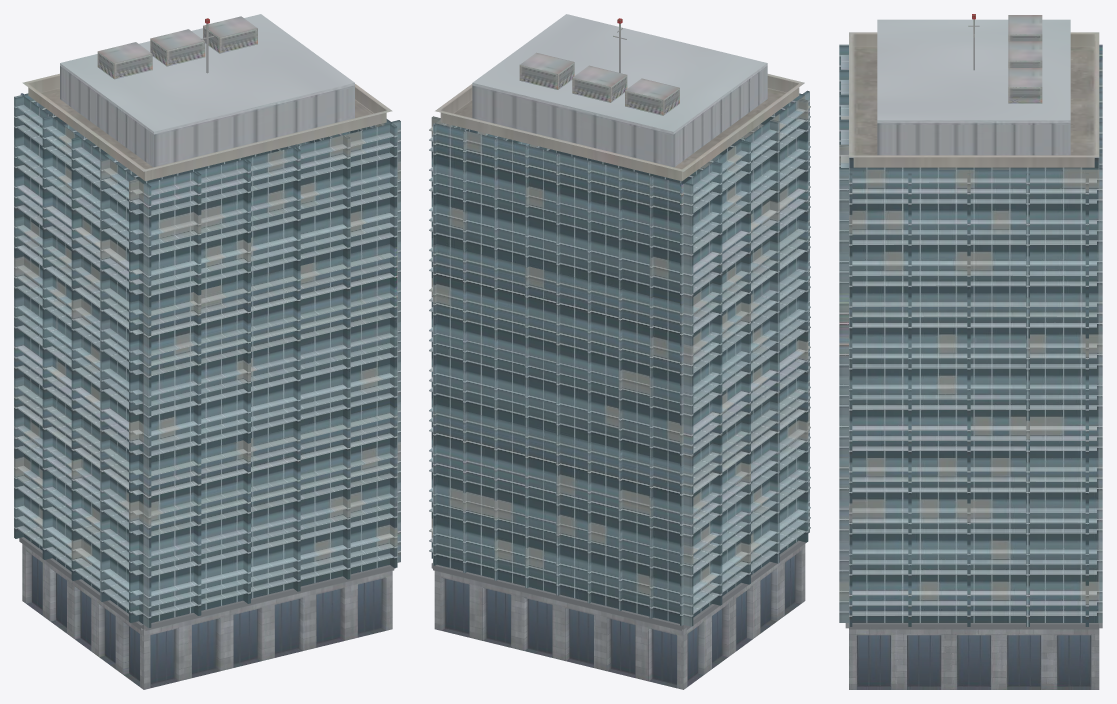
Rendered from tokyo_midrise_d.glb.
The picture shows the model from 3 angles, left to right: view 1: azimuth 30°, elevation 25°; view 2: azimuth 150°, elevation 25°; view 3: azimuth 270°, elevation 25°; orthographic projection. The views are drawn at different scales.
Parts seen in each view (by area): view 1: tokyo_midrise_d; view 2: tokyo_midrise_d; view 3: tokyo_midrise_d.
Boxes of the visible parts, <box> form: tokyo_midrise_d: <box>14,14,400,689</box>; tokyo_midrise_d: <box>429,14,810,689</box>; tokyo_midrise_d: <box>839,14,1102,689</box>.
Size of the model in its own units: 27.7 by 59.45 by 23.15.
1 material, 1 textured.
